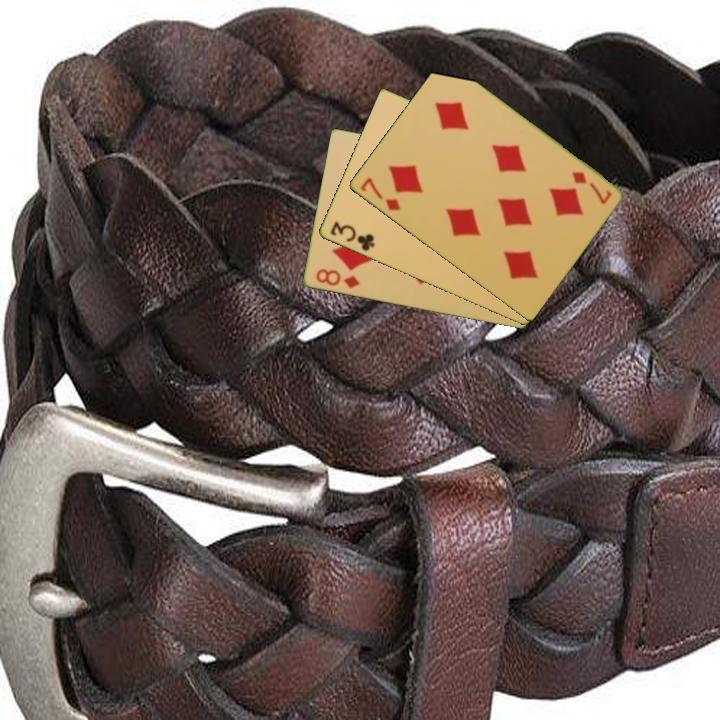3c: (326, 218, 377, 254)
7d: (357, 174, 403, 214), (568, 168, 614, 207)
8d: (312, 265, 362, 291)
